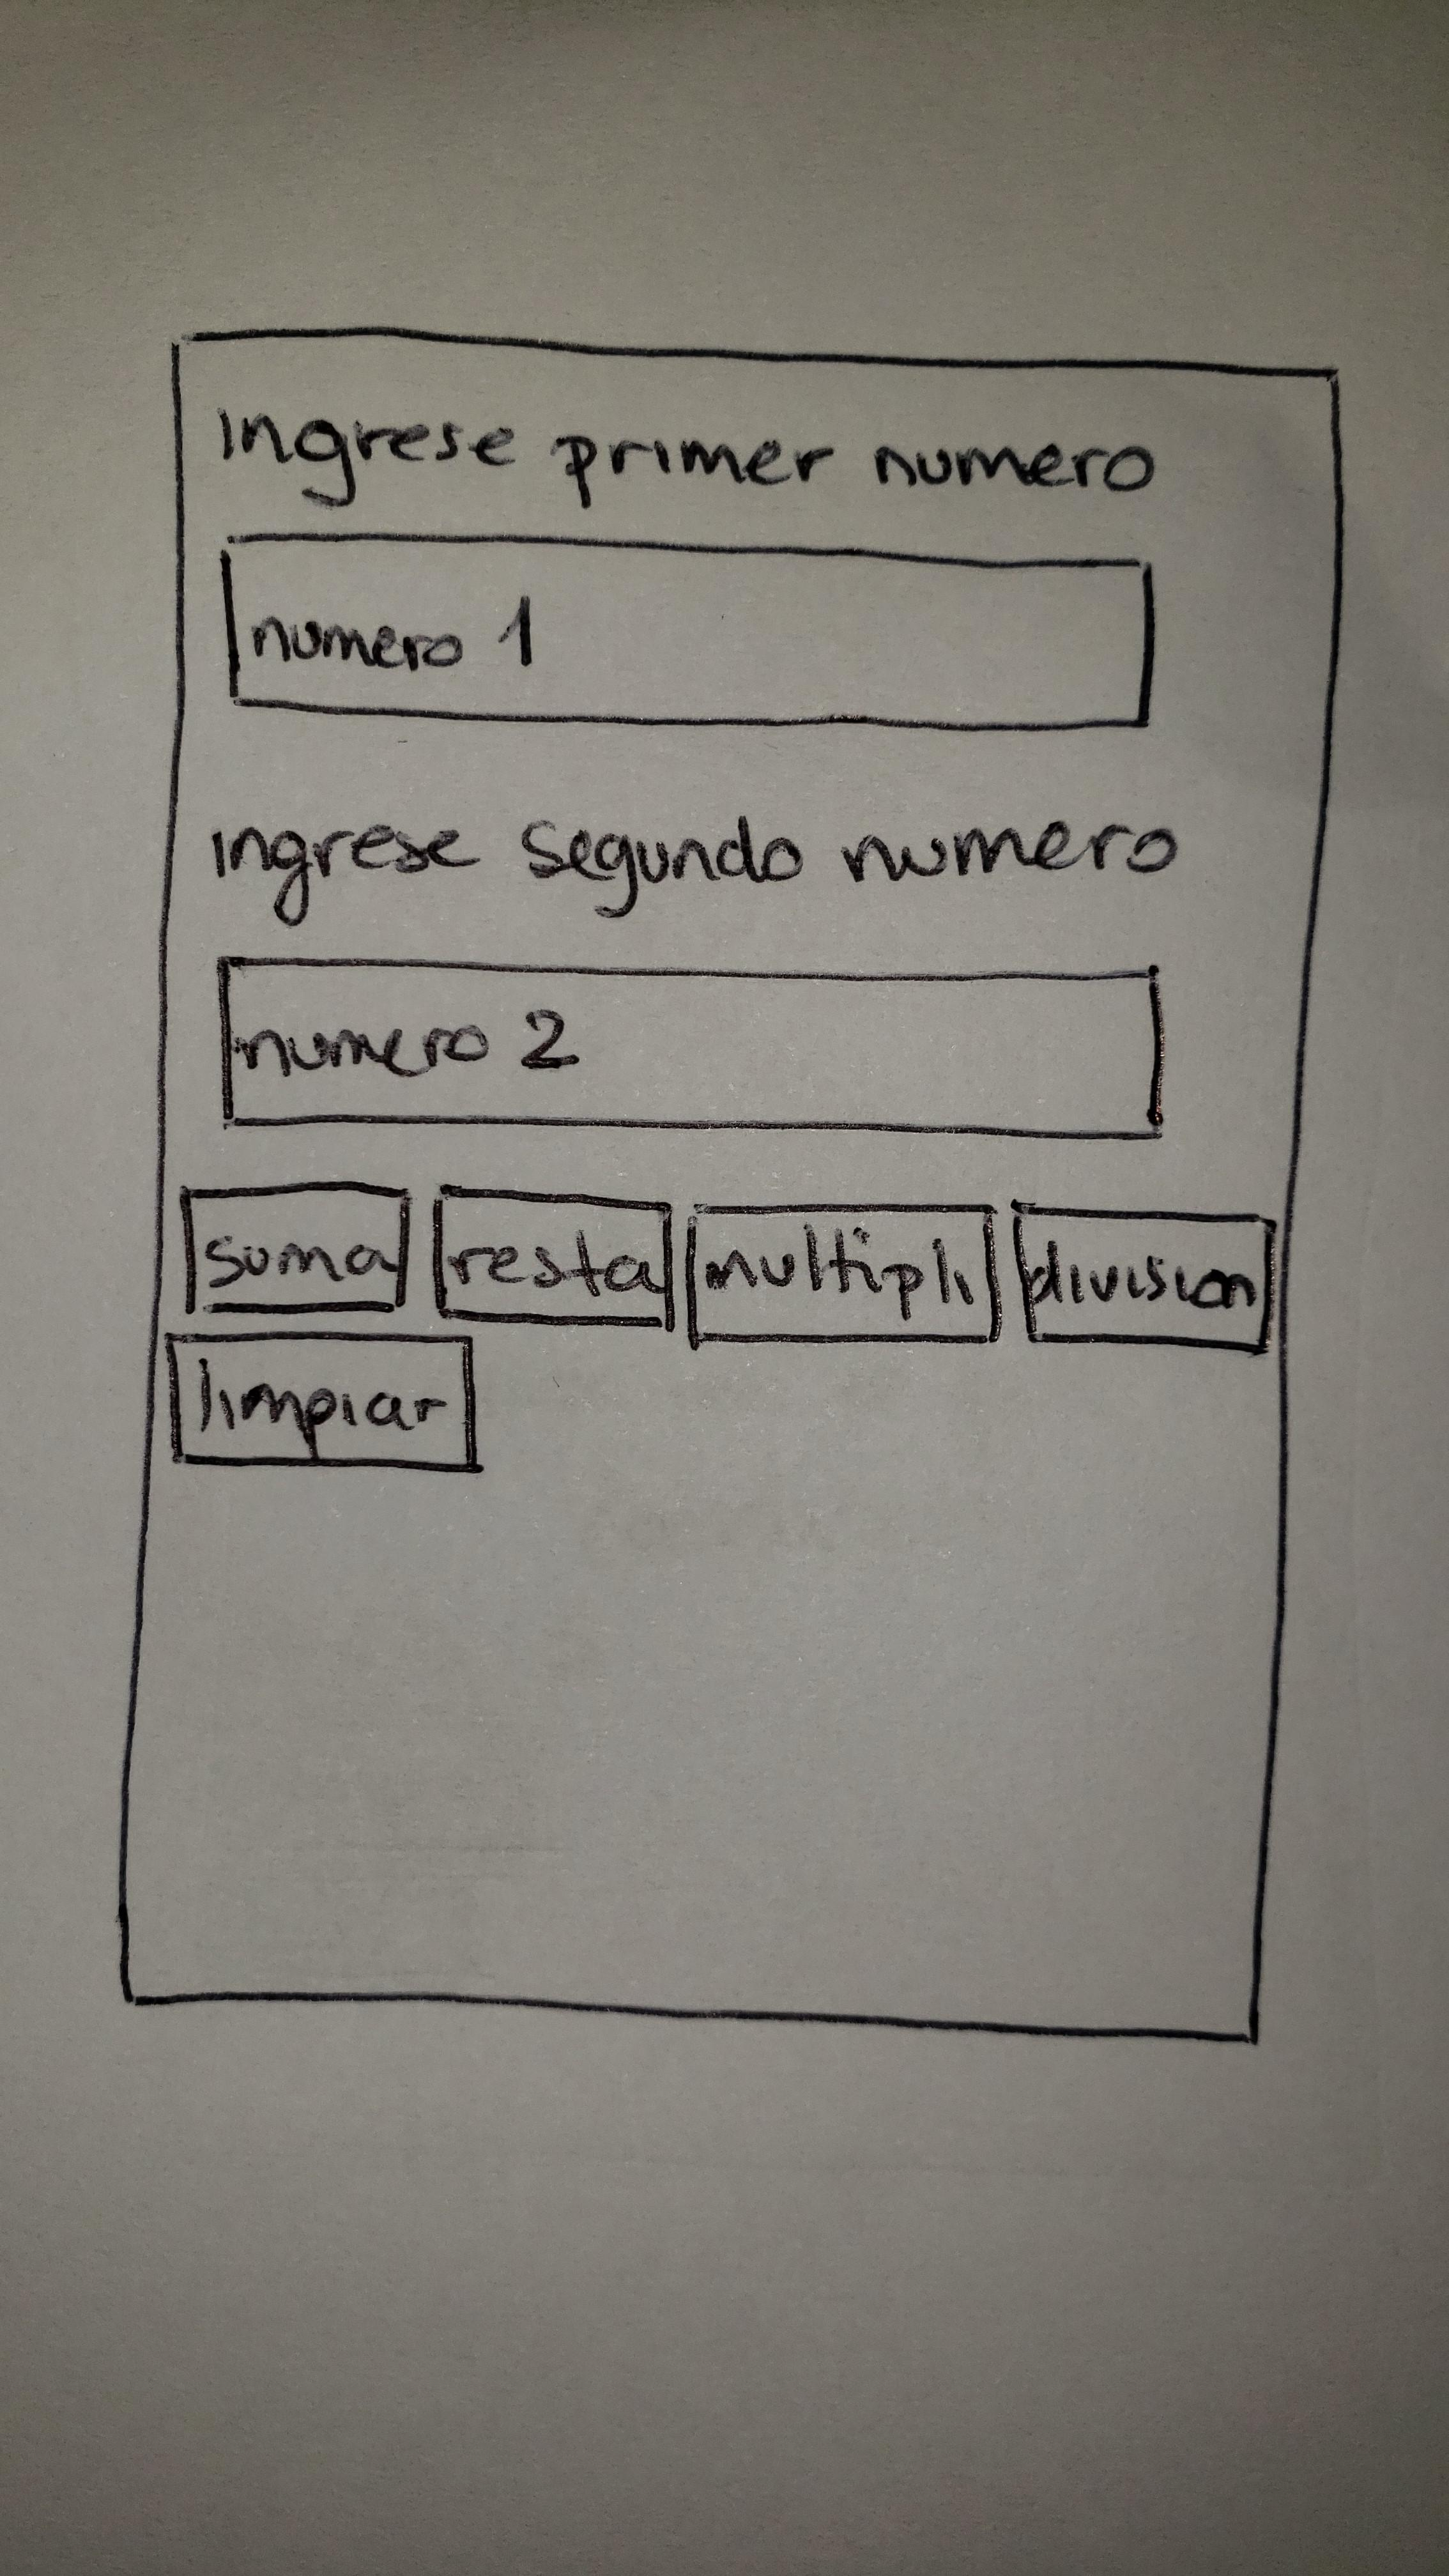Button: (688, 1201, 1003, 1346), (166, 1330, 479, 1476), (1014, 1201, 1276, 1348), (437, 1184, 676, 1329), (177, 1180, 412, 1318)
Label: (205, 810, 1180, 925), (214, 402, 1161, 510)
Screen: (119, 322, 1343, 2047)
TextBox: (221, 531, 1155, 734), (218, 955, 1168, 1143)
